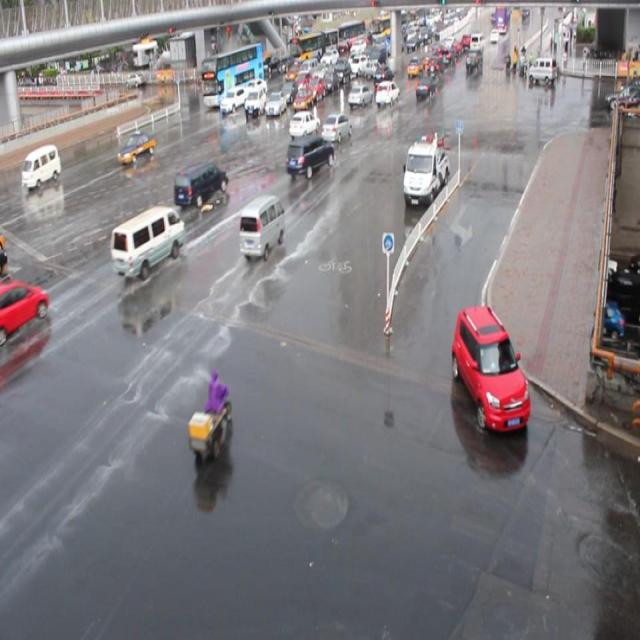bus: (401, 136, 448, 204)
car: (450, 305, 530, 430), (1, 278, 50, 339), (173, 161, 228, 208), (285, 134, 334, 178), (117, 128, 156, 162), (320, 112, 352, 142), (288, 110, 320, 138), (220, 85, 247, 113), (374, 79, 398, 107), (347, 82, 372, 108), (264, 91, 286, 116), (292, 86, 312, 112), (242, 78, 266, 98), (279, 79, 298, 102), (305, 76, 324, 99), (292, 71, 310, 93)
truck: (111, 204, 185, 280), (238, 193, 285, 259), (22, 143, 61, 189), (247, 84, 269, 115)
van: (200, 42, 265, 106)
